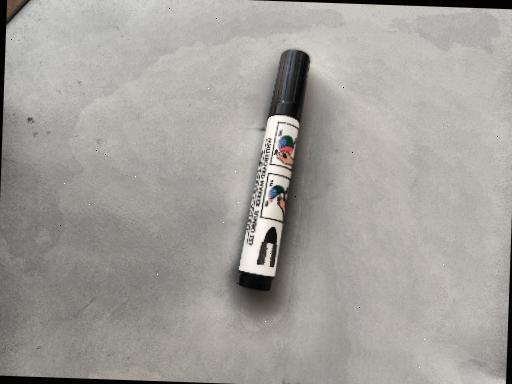marcador negro: (238, 49, 309, 290)
